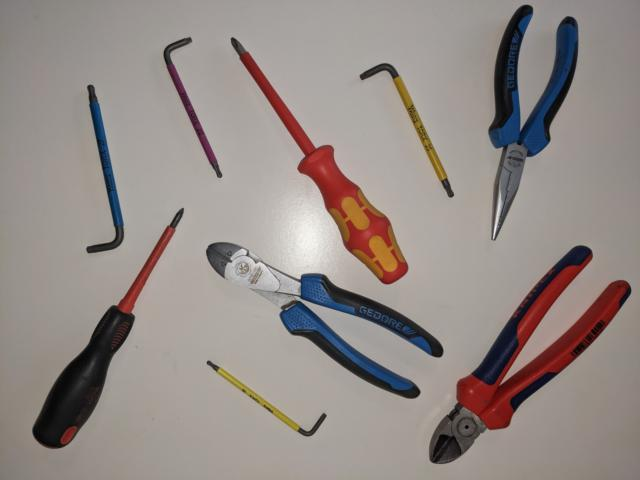Inbusschlüssel: (358, 59, 458, 203), (203, 357, 331, 438), (159, 35, 227, 182), (81, 83, 128, 258)
Schraubendreher: (227, 34, 411, 287), (29, 204, 187, 452)
Seitenschneider: (426, 241, 636, 468), (203, 239, 447, 401)
Zange: (481, 2, 583, 244)
